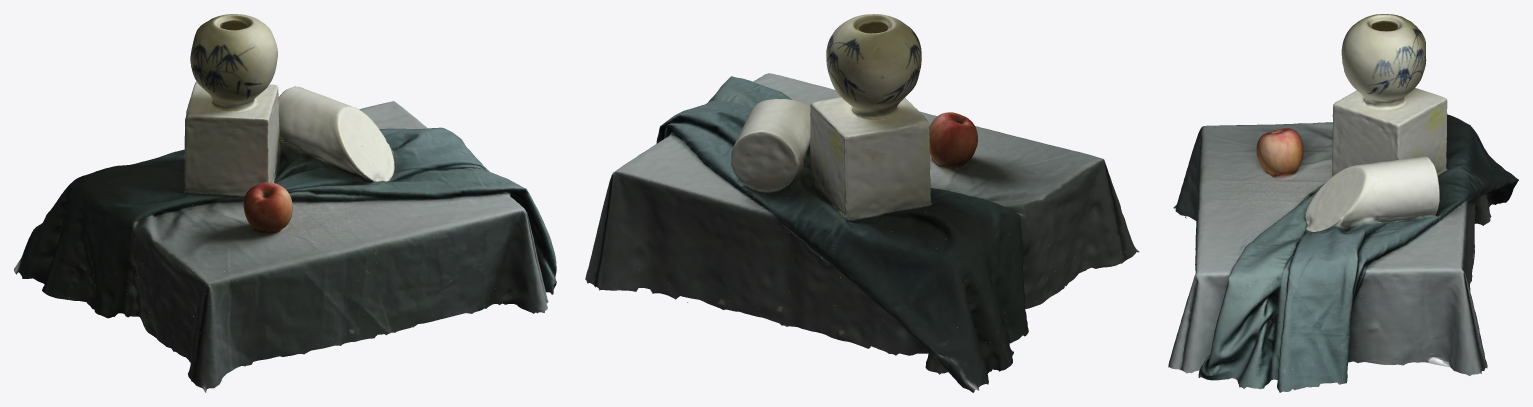
Rendered from 静物_几何体_花瓶苹果10_opt.glb.
The picture shows the model from 3 angles, left to right: view 1: azimuth 30°, elevation 25°; view 2: azimuth 150°, elevation 25°; view 3: azimuth 270°, elevation 25°; orthographic projection. The views are drawn at different scales.
Parts seen in each view (by area): view 1: defaultMat, defaultMat_1; view 2: defaultMat, defaultMat_1; view 3: defaultMat, defaultMat_1.
Part boxes in pixels (x1,y1,x2,y2): defaultMat: (14,14,556,392); defaultMat_1: (23,15,555,390); defaultMat: (585,14,1139,392); defaultMat_1: (588,17,1135,375); defaultMat: (1168,14,1518,392); defaultMat_1: (1171,16,1516,389).
Bounding box in the file's own units: 0.5004 × 0.3 × 0.3802.
1 material, 1 textured.
